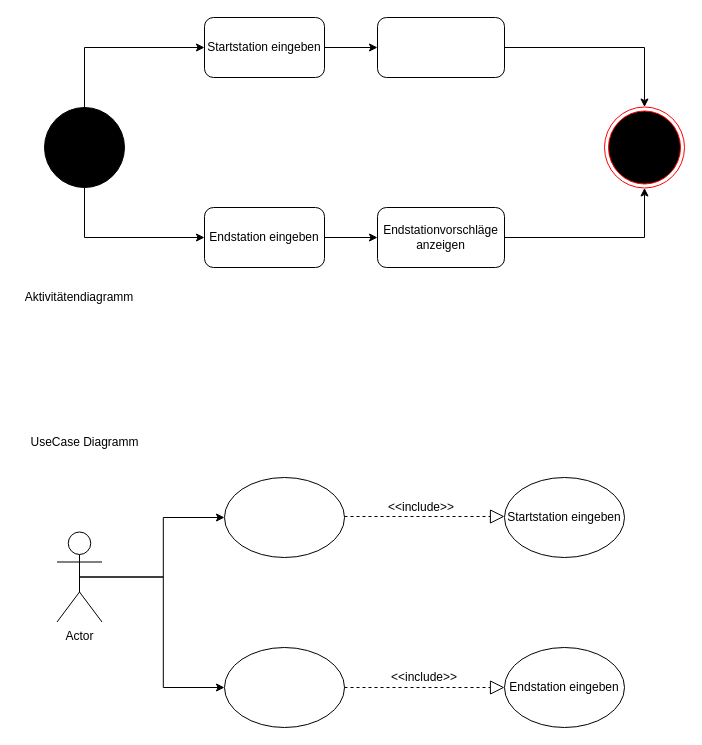
The diagram is 702 pixels wide and 745 high, and some of its shapes have lost their labels. The shapes that lost their labels are listed below. From the top down, each one's box as (x1, y1, x2, y2) in pixels, then its label:
(376, 16, 504, 78): Startstationvorschläge anzeigen
(224, 476, 344, 558): Startstation Suchresultate anzeigen
(224, 646, 344, 728): Endstation Suchresultate anzeigen
